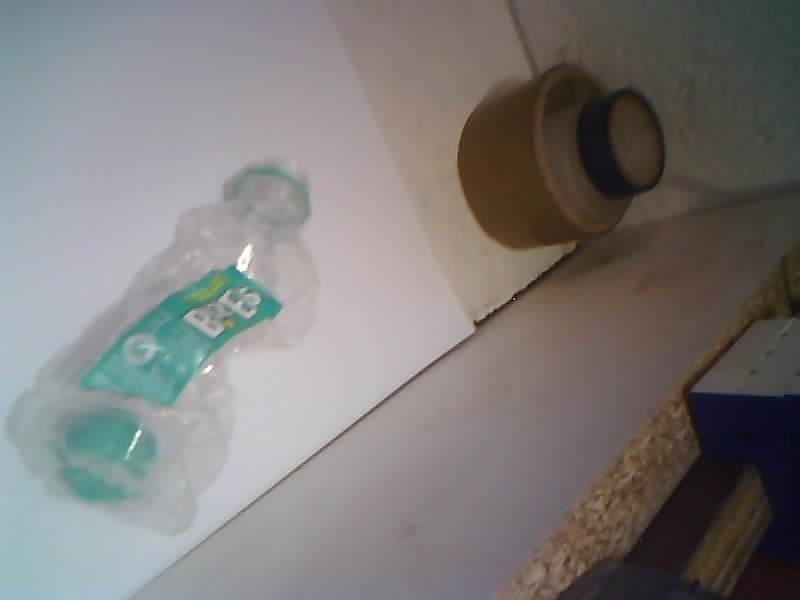non-biodegradable: (9, 165, 317, 533)
